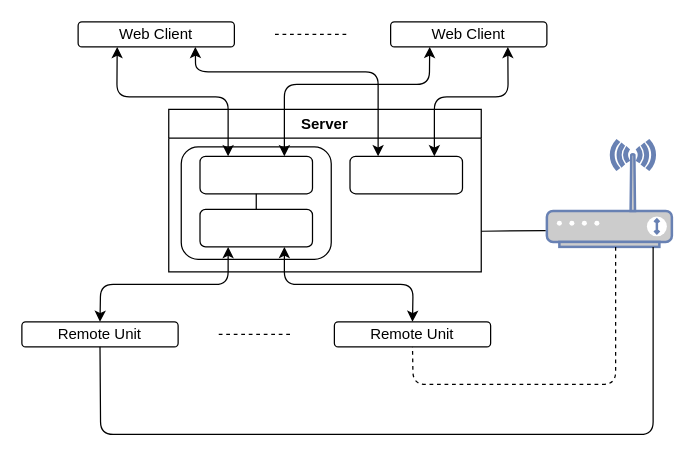
This 695x458 diagram has some shape labels left out. The centre of each missing label's shape, as x and y in pixels:
"HTTP Server" goes at pixel 405 174.
"Socket Server" goes at pixel 255 227.
"Websocket Server" goes at pixel 255 174.
